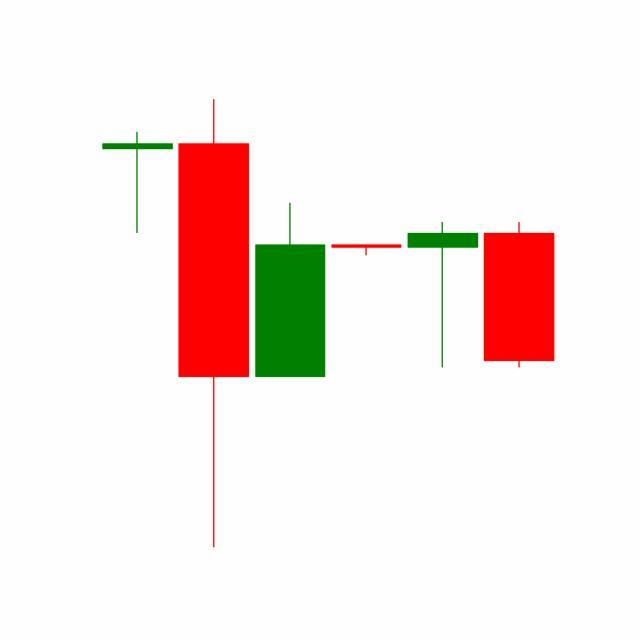Hanging Man: (404, 221, 482, 371)
